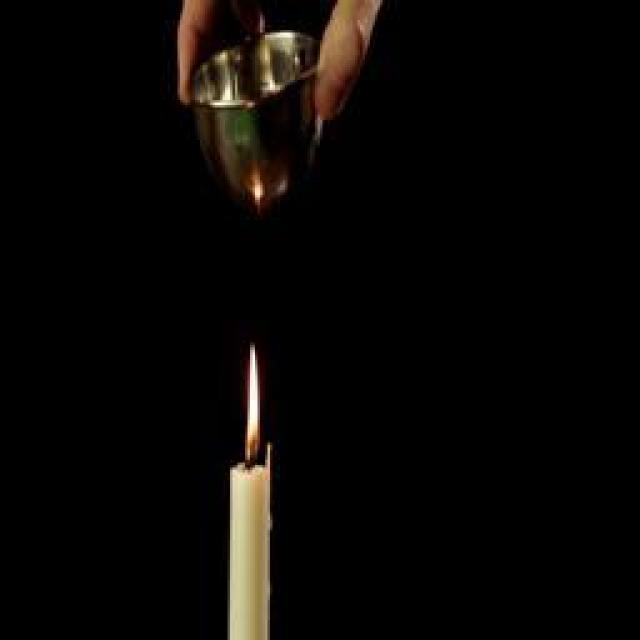Fire: (246, 346, 262, 459)
